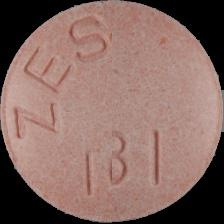0310-0131: (0, 0, 224, 224)
